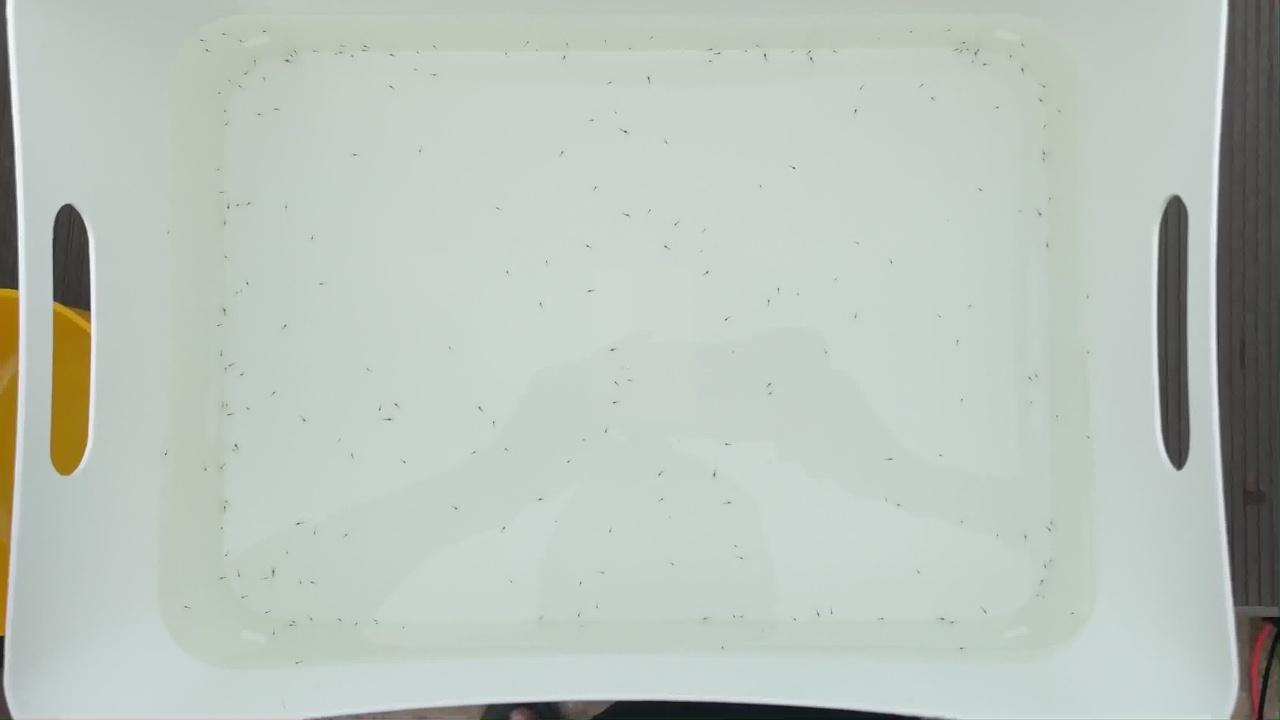shrimp: (885, 456, 898, 464), (914, 567, 927, 575), (1037, 578, 1050, 586), (1080, 346, 1093, 354), (1082, 295, 1095, 303), (1039, 157, 1052, 165), (1017, 63, 1030, 71), (967, 57, 980, 65), (974, 46, 987, 54), (963, 46, 976, 54), (906, 30, 919, 38), (852, 107, 865, 115), (787, 46, 800, 54), (282, 58, 295, 66), (237, 80, 250, 88), (222, 107, 235, 115), (221, 124, 234, 132), (280, 202, 293, 210), (307, 235, 320, 243), (232, 201, 245, 209), (219, 202, 232, 210), (221, 218, 234, 226), (221, 306, 234, 314), (217, 345, 230, 353), (217, 401, 230, 409), (299, 418, 312, 426), (331, 440, 344, 448), (270, 567, 283, 575), (417, 367, 430, 375), (724, 501, 737, 509), (658, 500, 671, 508), (474, 406, 487, 414), (626, 379, 639, 387), (643, 207, 656, 215), (793, 290, 806, 298), (762, 296, 775, 304), (787, 162, 800, 170), (843, 404, 855, 412), (934, 450, 946, 458), (1033, 207, 1045, 215), (1006, 52, 1018, 60), (706, 46, 718, 54), (346, 52, 358, 60), (214, 91, 226, 99), (203, 467, 215, 475), (490, 423, 502, 431), (535, 301, 547, 309), (767, 390, 779, 398), (723, 440, 735, 448), (829, 274, 841, 282), (895, 502, 908, 509), (882, 496, 895, 503), (929, 504, 942, 511), (958, 514, 971, 521), (993, 530, 1006, 537), (1040, 529, 1053, 536), (1049, 517, 1062, 524), (1046, 556, 1059, 563), (1039, 560, 1052, 567), (1033, 594, 1046, 601), (1067, 611, 1080, 618), (978, 610, 991, 617), (949, 620, 962, 627), (938, 618, 951, 625), (959, 644, 972, 651), (877, 613, 890, 620), (826, 608, 839, 615), (813, 609, 826, 616), (700, 613, 713, 620), (729, 613, 742, 620), (739, 614, 752, 621), (736, 554, 749, 561), (733, 542, 746, 549), (1082, 437, 1095, 444), (1049, 409, 1062, 416), (1022, 399, 1035, 406), (1026, 375, 1039, 382), (1031, 370, 1044, 377), (956, 400, 969, 407), (951, 340, 964, 347), (930, 316, 943, 323), (962, 303, 975, 310), (1042, 240, 1055, 247), (1047, 193, 1060, 200), (973, 184, 986, 191), (1039, 146, 1052, 153), (1043, 120, 1056, 127), (1054, 109, 1067, 116), (1035, 100, 1048, 107), (993, 103, 1006, 110), (1019, 41, 1032, 48), (959, 48, 972, 55), (950, 49, 963, 56), (958, 37, 971, 44), (940, 29, 953, 36), (914, 81, 927, 88), (929, 95, 942, 102), (859, 84, 872, 91), (829, 49, 842, 56), (807, 57, 820, 64), (802, 47, 815, 54), (757, 52, 770, 59), (712, 49, 725, 56), (705, 59, 718, 66), (644, 76, 657, 83), (648, 33, 661, 40), (625, 46, 638, 53), (601, 41, 614, 48), (603, 81, 616, 88), (610, 112, 623, 119), (586, 117, 599, 124), (556, 147, 569, 154), (558, 53, 571, 60), (520, 40, 533, 47), (499, 50, 512, 57), (411, 63, 424, 70), (387, 85, 400, 92), (385, 50, 398, 57), (361, 41, 374, 48), (360, 49, 373, 56), (338, 40, 351, 47), (289, 48, 302, 55), (233, 37, 246, 44), (214, 25, 227, 32), (194, 36, 207, 43), (248, 60, 261, 67), (239, 72, 252, 79), (256, 72, 269, 79), (219, 75, 232, 82), (254, 110, 267, 117), (345, 150, 358, 157), (413, 149, 426, 156), (244, 198, 257, 205), (221, 253, 234, 260), (236, 287, 249, 294), (231, 289, 244, 296), (209, 319, 222, 326), (278, 326, 291, 333), (316, 278, 329, 285), (226, 361, 239, 368), (218, 365, 231, 372), (238, 372, 251, 379), (268, 390, 281, 397), (243, 403, 256, 410), (222, 398, 235, 405), (222, 413, 235, 420), (160, 448, 173, 455), (217, 465, 230, 472), (343, 448, 356, 455), (341, 530, 354, 537), (287, 515, 300, 522), (220, 499, 233, 506), (219, 503, 232, 510), (215, 528, 228, 535), (224, 550, 237, 557), (216, 575, 229, 582), (234, 571, 247, 578), (282, 546, 295, 553), (294, 578, 307, 585), (307, 578, 320, 585), (305, 613, 318, 620), (287, 617, 300, 624), (268, 627, 281, 634), (334, 617, 347, 624), (292, 658, 305, 665), (350, 620, 363, 627), (372, 618, 385, 625), (382, 423, 395, 430), (374, 403, 387, 410), (391, 406, 404, 413), (361, 372, 374, 379), (445, 343, 458, 350), (401, 459, 414, 466), (450, 507, 463, 514), (498, 524, 511, 531), (502, 581, 515, 588), (535, 615, 548, 622), (575, 611, 588, 618), (592, 601, 605, 608), (598, 571, 611, 578), (604, 528, 617, 535), (667, 560, 680, 567), (654, 471, 667, 478), (535, 497, 548, 504), (504, 449, 517, 456), (565, 470, 578, 477), (579, 434, 592, 441), (600, 428, 613, 435), (608, 401, 621, 408), (608, 348, 621, 355), (500, 269, 513, 276), (538, 256, 551, 263), (583, 286, 596, 293), (581, 236, 594, 243), (590, 186, 603, 193), (621, 212, 634, 219), (668, 220, 681, 227), (660, 242, 673, 249), (696, 228, 709, 235), (701, 267, 714, 274), (721, 316, 734, 323), (763, 376, 776, 383), (818, 340, 831, 347), (852, 317, 865, 324), (821, 352, 834, 359), (772, 283, 785, 290), (887, 257, 900, 264), (853, 239, 866, 246), (758, 186, 771, 193), (1022, 535, 1034, 542), (789, 618, 801, 625), (718, 647, 730, 654), (1039, 83, 1051, 90), (978, 59, 990, 66), (751, 41, 763, 48), (618, 129, 630, 136), (657, 140, 669, 147), (430, 42, 442, 49), (413, 50, 425, 57), (424, 70, 436, 77), (336, 52, 348, 59), (330, 50, 342, 57), (308, 46, 320, 53), (286, 52, 298, 59), (258, 25, 270, 32), (202, 50, 214, 57), (275, 105, 287, 112), (214, 187, 226, 194), (214, 164, 226, 171), (241, 282, 253, 289), (230, 439, 242, 446), (308, 528, 320, 535), (180, 605, 192, 612), (241, 593, 253, 600), (258, 579, 270, 586), (263, 609, 275, 616), (573, 576, 585, 583), (707, 469, 719, 476), (469, 452, 481, 459), (563, 459, 575, 466), (612, 383, 624, 390), (491, 206, 503, 213)
